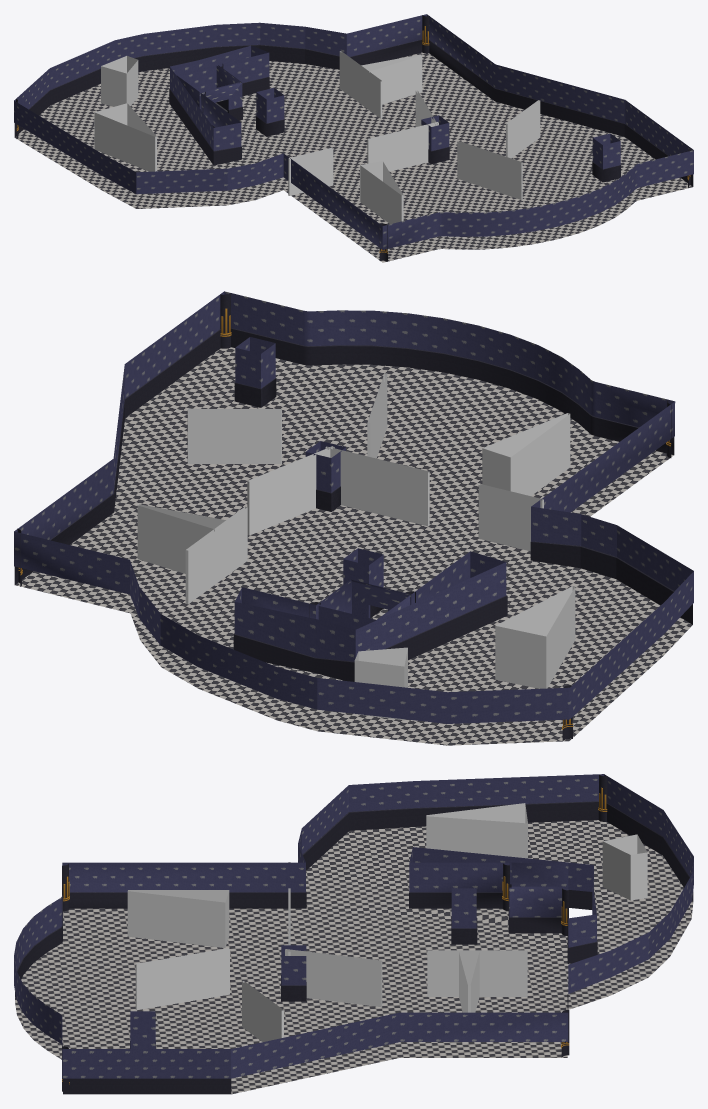
File: Level.fbx
The picture shows the model from 3 angles, top to bottom: view 1: azimuth 30°, elevation 25°; view 2: azimuth 150°, elevation 25°; view 3: azimuth 270°, elevation 25°; orthographic projection. The views are drawn at different scales.
Visible parts, largest first — view 1: MapWalls, MapFloor, WallStrange.008, WallStrange.002, WallStrange.003, WallStrange.001, MapWalls.002, WallStrange.006, WallStrange.005, WallStrange.009, WallStrange.007, Pillar.001 (+4 smaller); view 2: MapFloor, MapWalls, WallStrange.008, MapWalls.002, WallStrange.007, WallStrange.003, WallStrange.001, WallStrange.004, WallStrange.006, WallStrange.005, WallStrange, Pillar.003 (+4 smaller); view 3: MapFloor, MapWalls, MapWalls.002, WallStrange.001, WallStrange.008, WallStrange.002, WallStrange.005, WallStrange.004, WallStrange.009, WallStrange.007, Pillar.001, Pillar.002 (+3 smaller).
Boxes of the visible parts, x1=… form: MapWalls: x1=14, y1=14, x2=693, y2=249; MapFloor: x1=14, y1=52, x2=692, y2=262; WallStrange.008: x1=94, y1=103, x2=156, y2=171; WallStrange.002: x1=457, y1=141, x2=522, y2=199; WallStrange.003: x1=367, y1=122, x2=438, y2=171; WallStrange.001: x1=360, y1=161, x2=403, y2=223; MapWalls.002: x1=624, y1=100, x2=693, y2=186; WallStrange.006: x1=360, y1=54, x2=422, y2=104; WallStrange.005: x1=339, y1=51, x2=382, y2=118; WallStrange.009: x1=101, y1=56, x2=138, y2=106; WallStrange.007: x1=506, y1=100, x2=540, y2=158; Pillar.001: x1=256, y1=88, x2=284, y2=136; MapFloor: x1=15, y1=347, x2=692, y2=745; MapWalls: x1=14, y1=291, x2=693, y2=723; WallStrange.008: x1=495, y1=586, x2=575, y2=688; MapWalls.002: x1=124, y1=291, x2=224, y2=417; WallStrange.007: x1=187, y1=408, x2=281, y2=463; WallStrange.003: x1=325, y1=446, x2=429, y2=526; WallStrange.001: x1=482, y1=413, x2=570, y2=495; WallStrange.004: x1=247, y1=446, x2=334, y2=535; WallStrange.006: x1=137, y1=504, x2=226, y2=573; WallStrange.005: x1=185, y1=506, x2=247, y2=604; WallStrange: x1=478, y1=484, x2=543, y2=551; Pillar.003: x1=234, y1=337, x2=276, y2=407; MapFloor: x1=15, y1=820, x2=693, y2=1094; MapWalls: x1=14, y1=774, x2=693, y2=1078; MapWalls.002: x1=62, y1=1049, x2=231, y2=1094; WallStrange.001: x1=127, y1=890, x2=229, y2=947; WallStrange.008: x1=426, y1=803, x2=527, y2=858; WallStrange.002: x1=135, y1=948, x2=229, y2=1010; WallStrange.005: x1=427, y1=950, x2=527, y2=996; WallStrange.004: x1=285, y1=949, x2=382, y2=1006; WallStrange.009: x1=602, y1=834, x2=647, y2=900; WallStrange.007: x1=242, y1=981, x2=283, y2=1041; Pillar.001: x1=451, y1=888, x2=477, y2=944; Pillar.002: x1=281, y1=945, x2=306, y2=1001.
Bounding box in the file's own units: 51.84 × 54.11 × 4.
